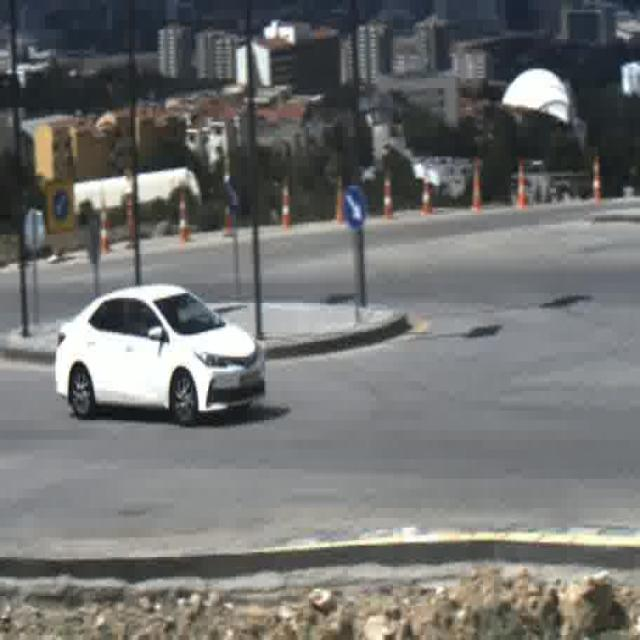Car: (56, 284, 266, 422)
